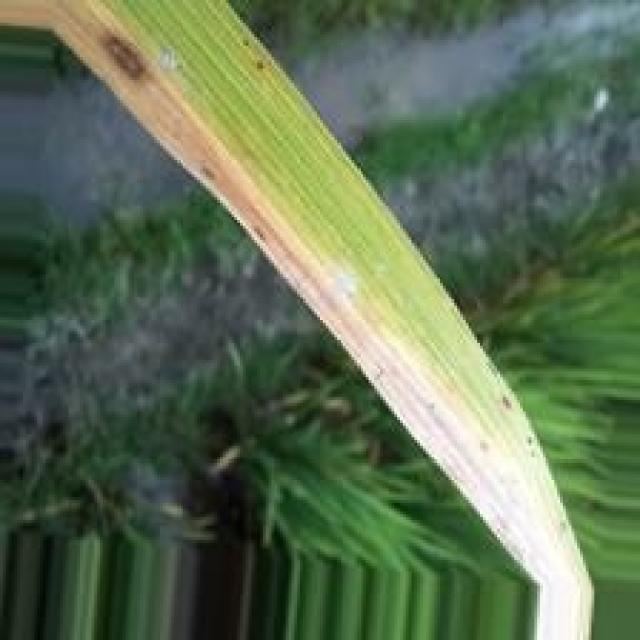Leaf_Blast: (1, 2, 584, 581)
